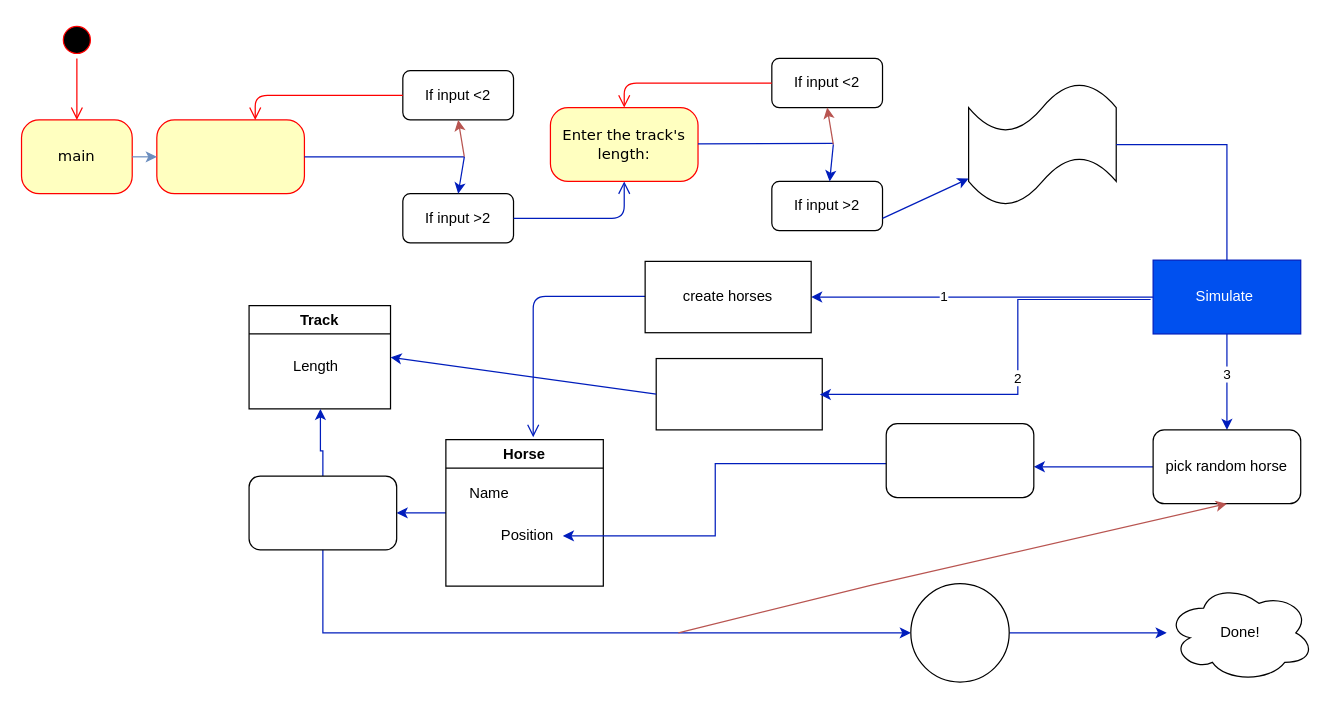
This 1336x704 diagram has some shape labels left out. The shapes that lost their labels are listed below. From the top down, each one's centre as x and y in pixels, then its label:
(230,156): Enter number of horses:
(1041,144): The Race begins
(738,393): create track
(959,460): Move the horse
(322,512): Print Track
(959,632): If horse is at the end
